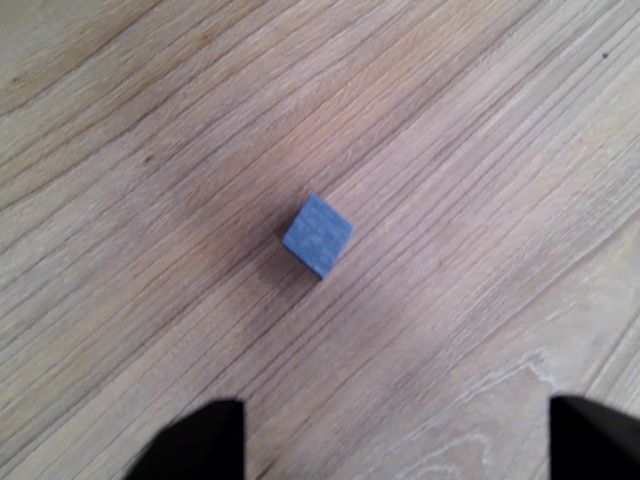stone: (279, 189, 357, 283)
